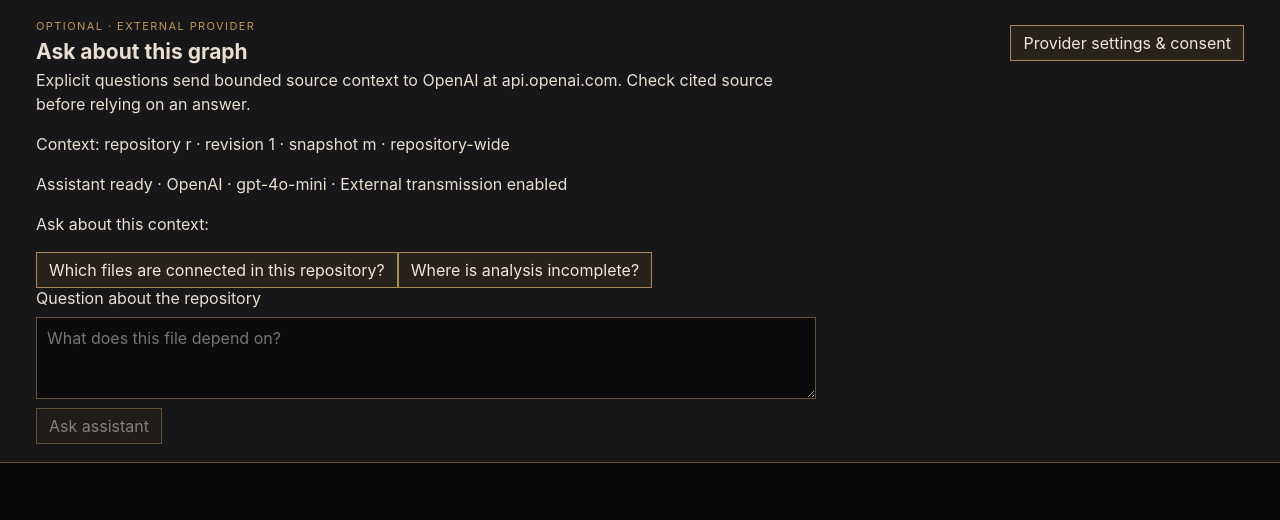
Test: reports provider timeout distinctly
The image size is (1280, 520).
Expected: the text "Assistant ready · OpenAI · gpt-4o-mini · External transmission enabled" is shown, [36,174,567,194]
Type "Explain" into the text box labelled "Question about the repository" at point(426, 358), box [36,316,816,398]
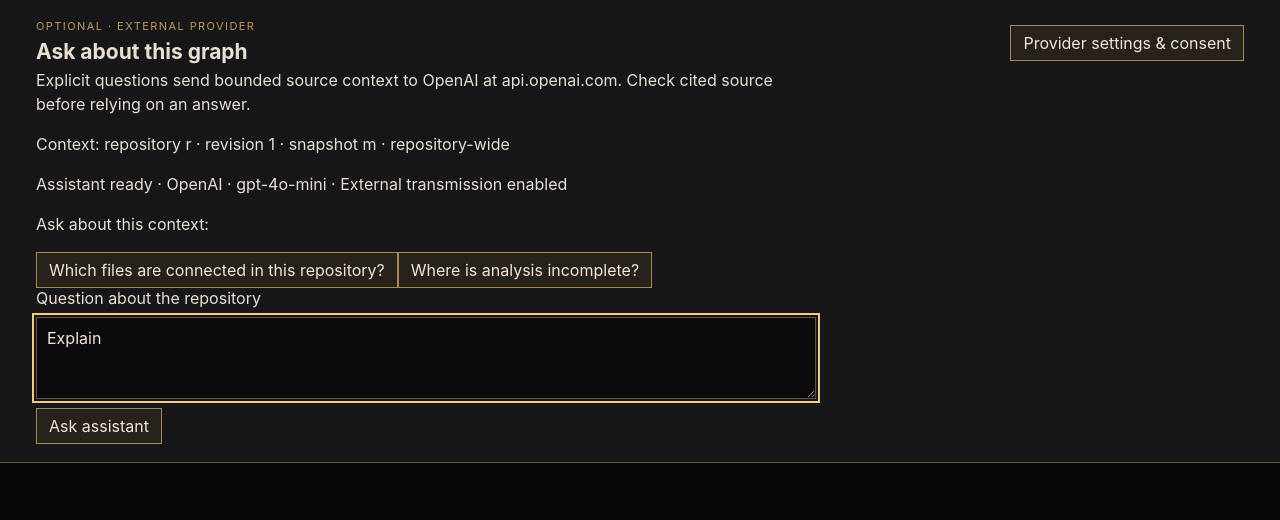
Click the button "Ask assistant" at point(99, 426), box [36,408,162,444]
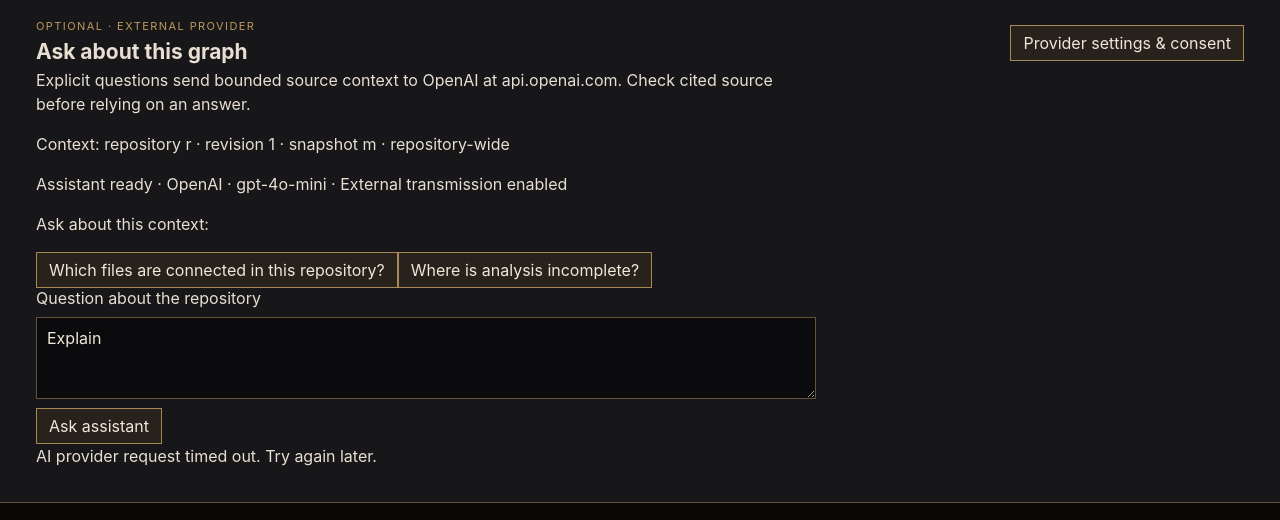
Expected: the message "AI provider request timed out. Try again later." is shown, [36,446,377,466]
